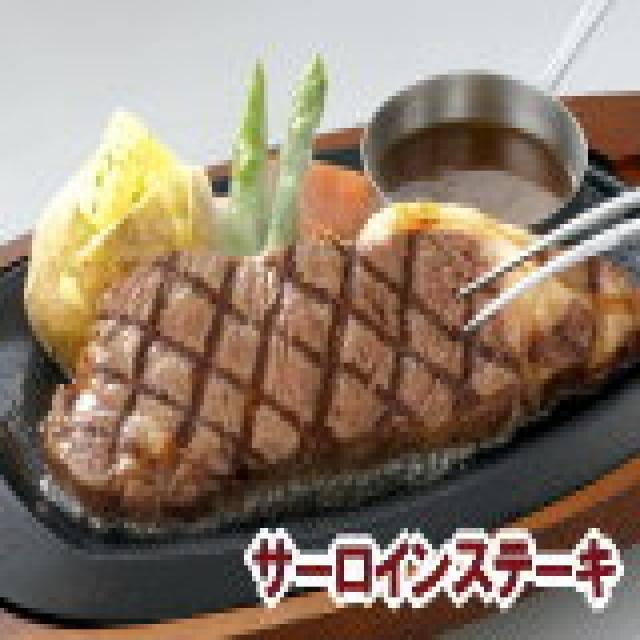Beef Steak: (44, 256, 554, 493)
